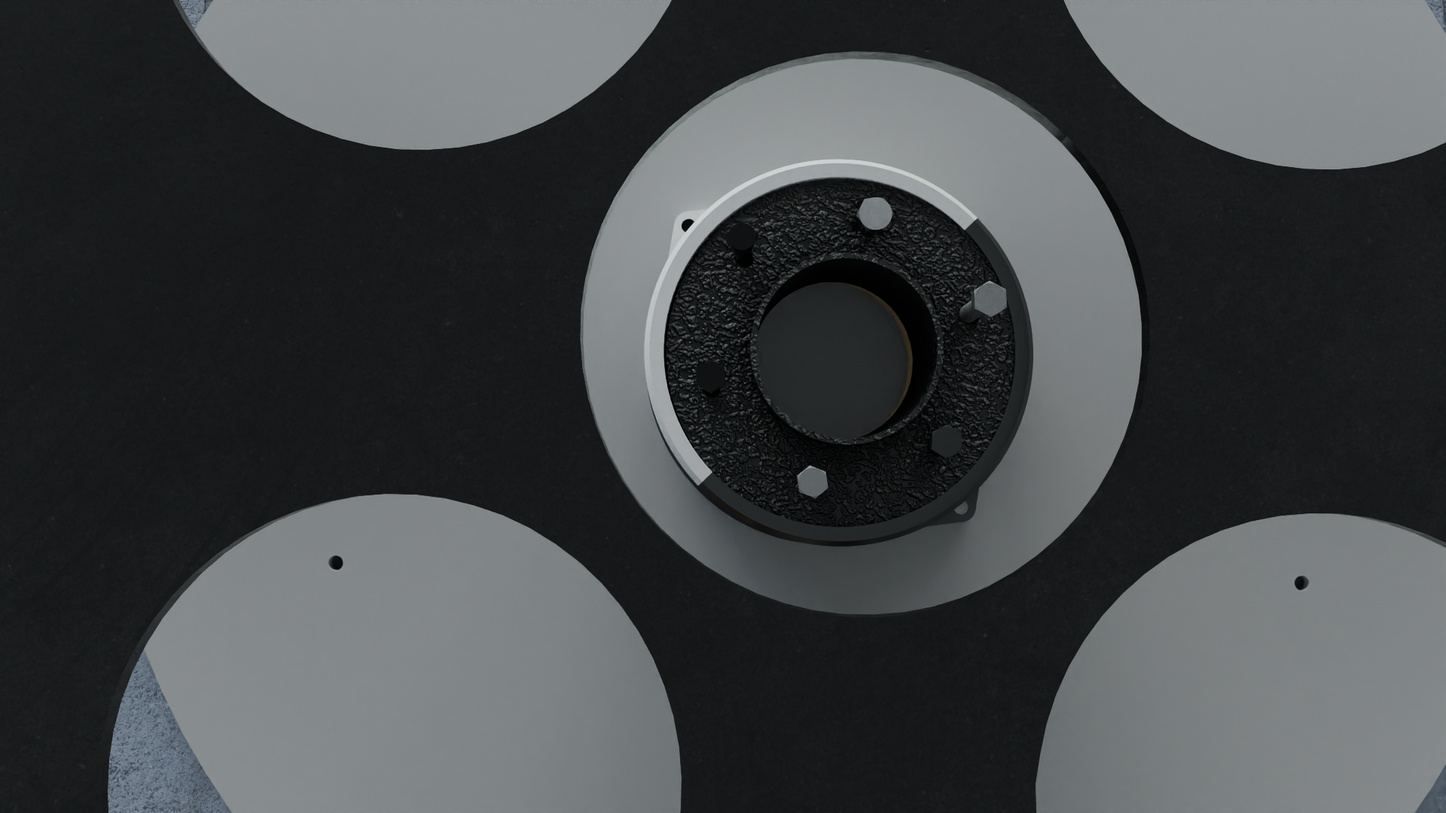bolt: (856, 197, 894, 231), (974, 281, 1007, 317), (932, 425, 962, 458), (798, 466, 828, 498), (696, 360, 725, 392), (726, 223, 758, 251)
